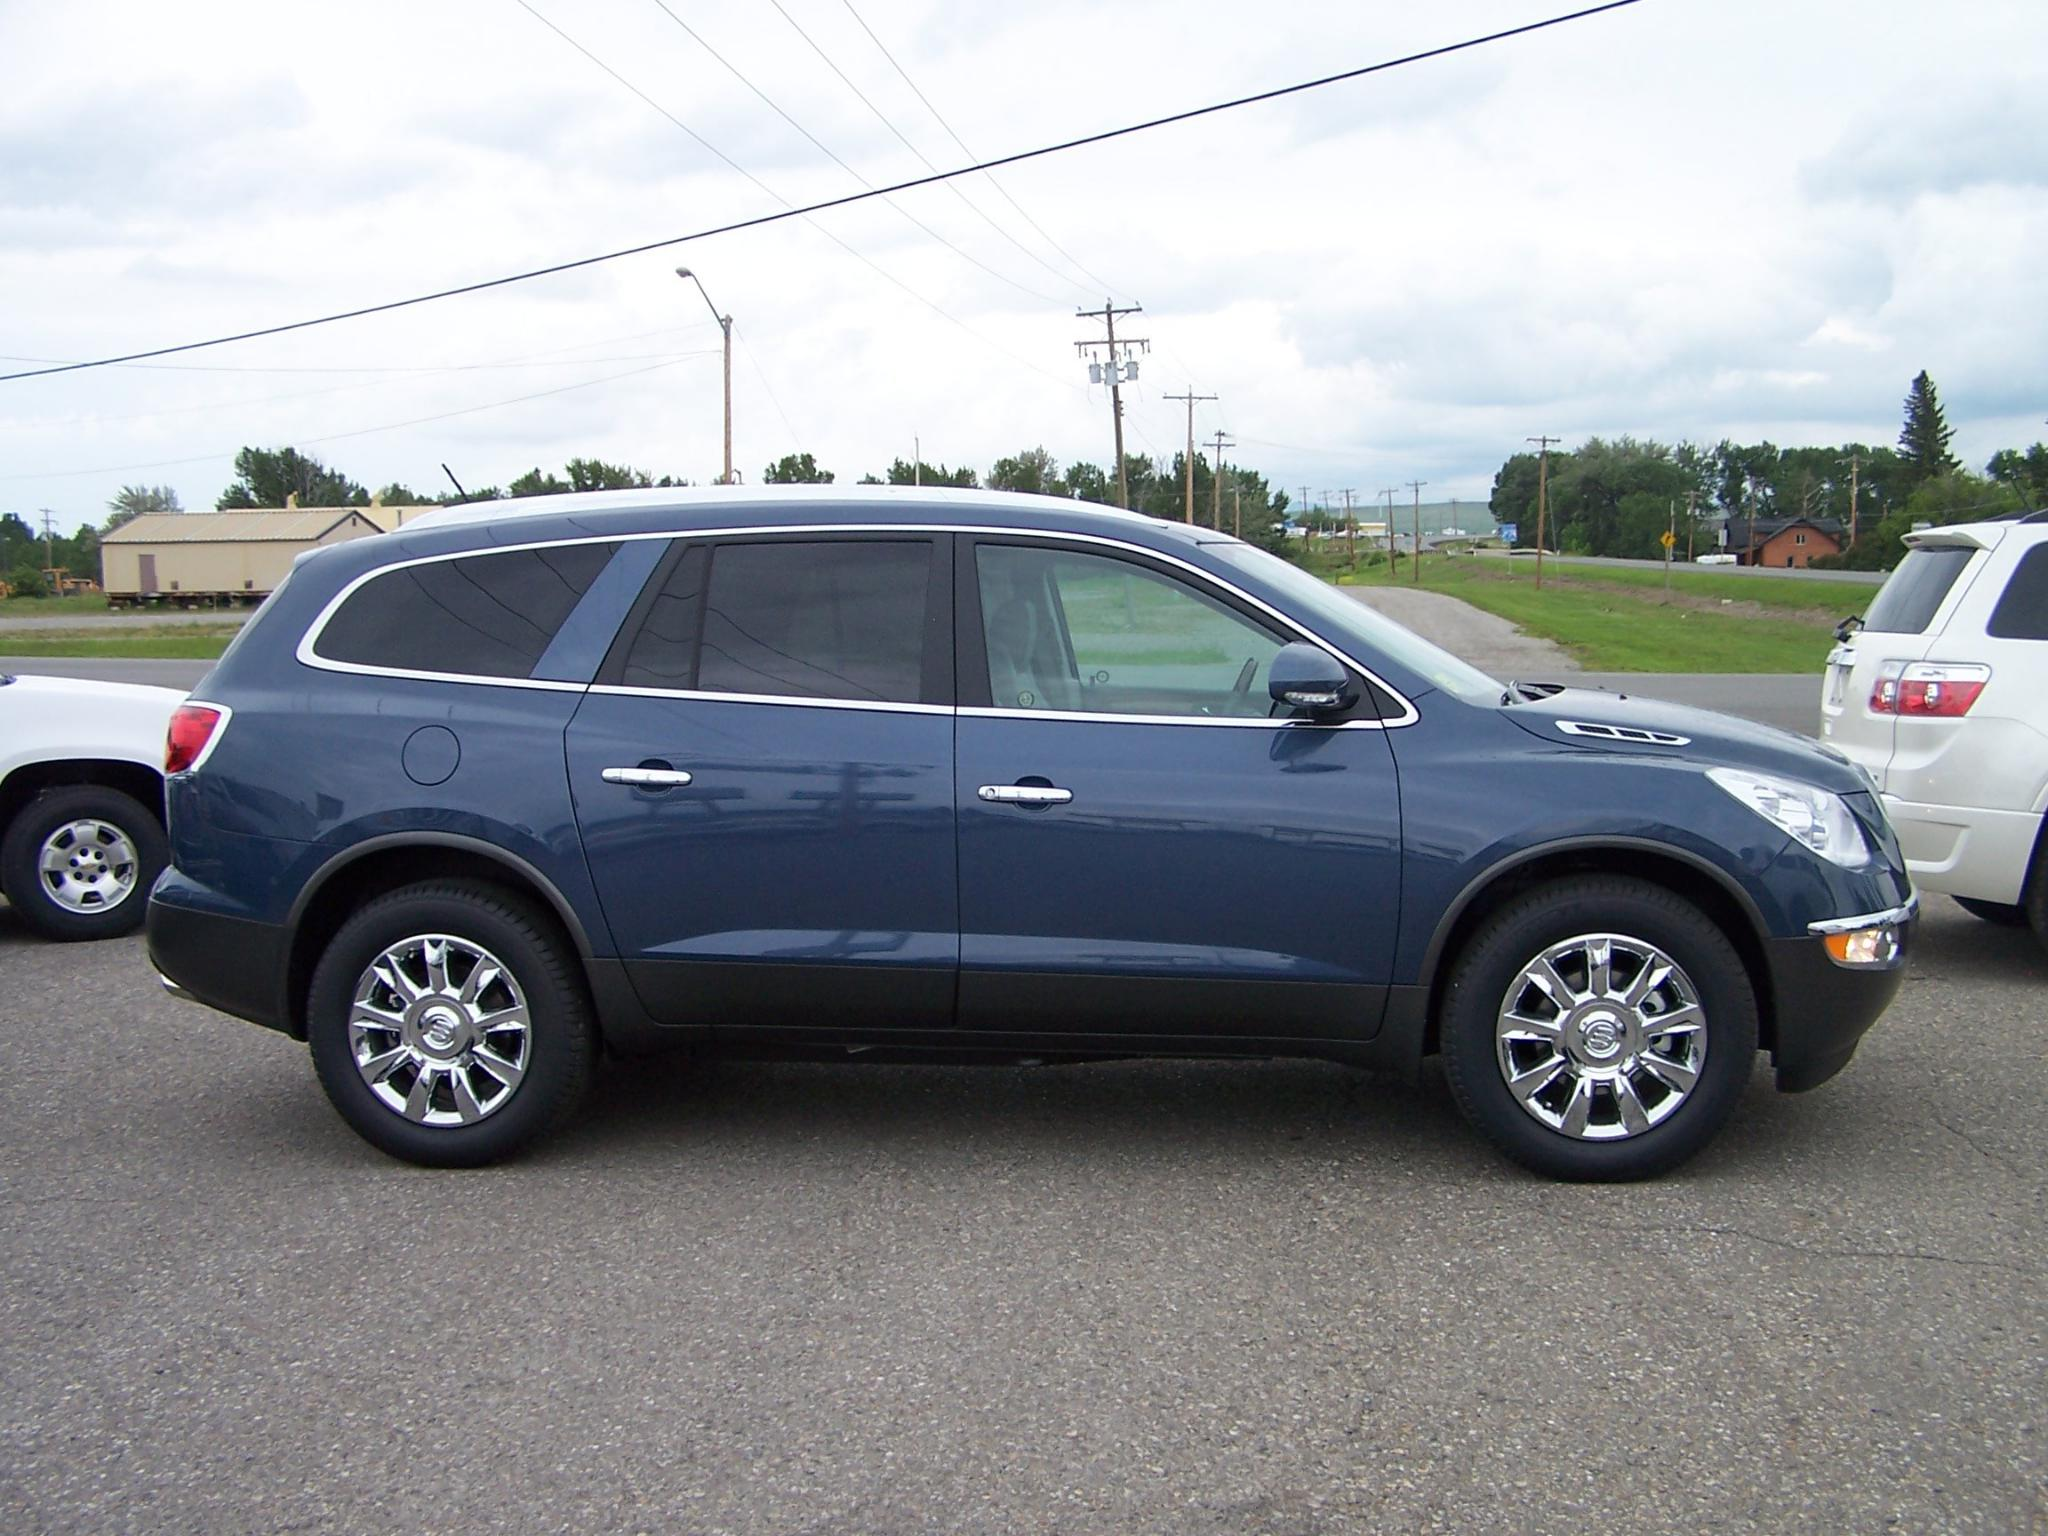Car: (68, 410, 1980, 1246), (1755, 511, 2048, 954)
